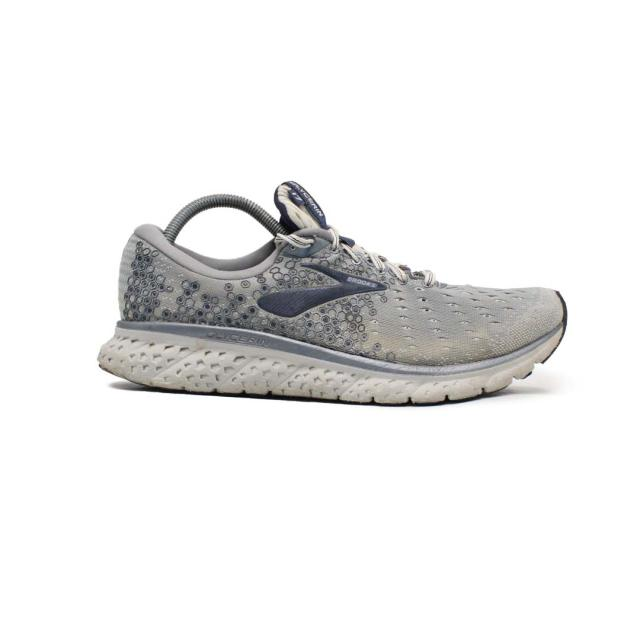heel: (119, 222, 166, 320)
midsole: (100, 288, 568, 407)
uppersole: (168, 183, 559, 360)
